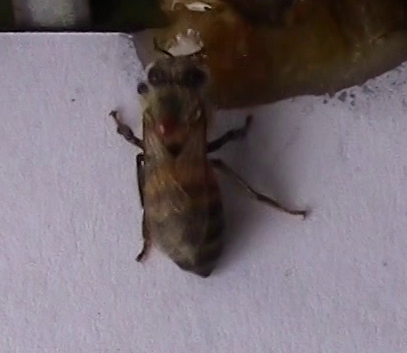Varroa destructor: (151, 109, 183, 135)
